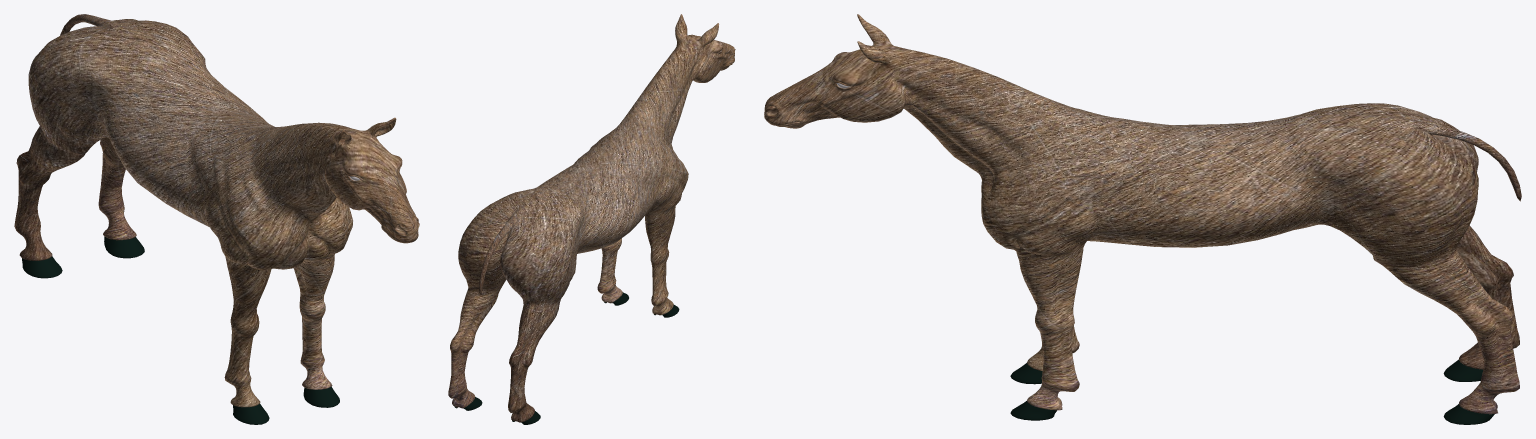
The model's file is horse.obj.
3 renders of one model, left to right at view 1: azimuth 30°, elevation 25°; view 2: azimuth 150°, elevation 25°; view 3: azimuth 270°, elevation 25°, orthographic. The views are drawn at different scales.
Parts seen in each view (by area): view 1: horse.000_horseMesh.000; view 2: horse.000_horseMesh.000; view 3: horse.000_horseMesh.000.
Part boxes in pixels (box(x1,y1,x2,y2)): horse.000_horseMesh.000: box(14, 14, 419, 424); horse.000_horseMesh.000: box(448, 14, 735, 424); horse.000_horseMesh.000: box(764, 14, 1521, 424).
Size of the model in its own units: 0.9271 by 2.13 by 3.98.
Materials: 6 (1 with a texture image).
